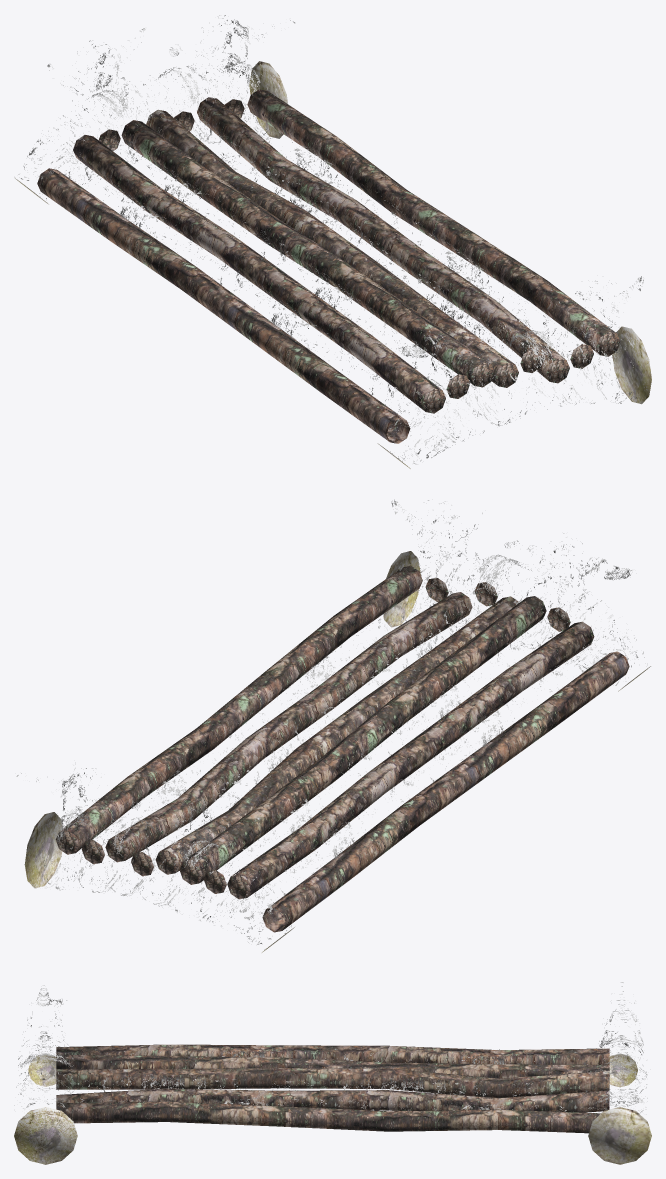
3 renders of one model, top to bottom at view 1: azimuth 30°, elevation 25°; view 2: azimuth 150°, elevation 25°; view 3: azimuth 270°, elevation 25°, orthographic. The views are drawn at different scales.
Parts seen in each view (by area): view 1: Base; view 2: Base; view 3: Base.
Boxes of the visible parts, x1,y1,x2,y2 form: Base: [14, 15, 651, 468]; Base: [16, 499, 650, 952]; Base: [14, 982, 651, 1164].
Size of the model in its own units: 3.22 by 1.66 by 8.
